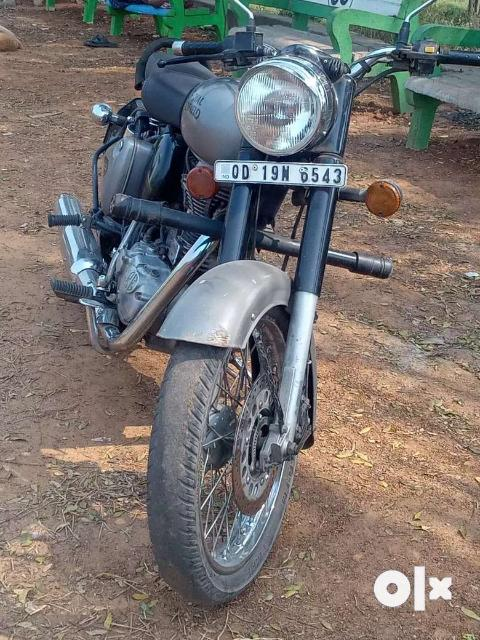Indian_Number_Plate: (216, 162, 346, 186)
